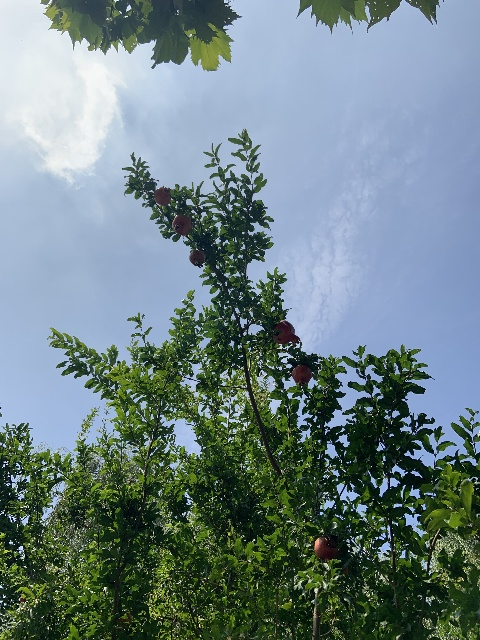ripe: (272, 320, 300, 346), (314, 536, 338, 562), (172, 214, 193, 236), (291, 364, 312, 386), (154, 185, 171, 206), (188, 250, 205, 267)
